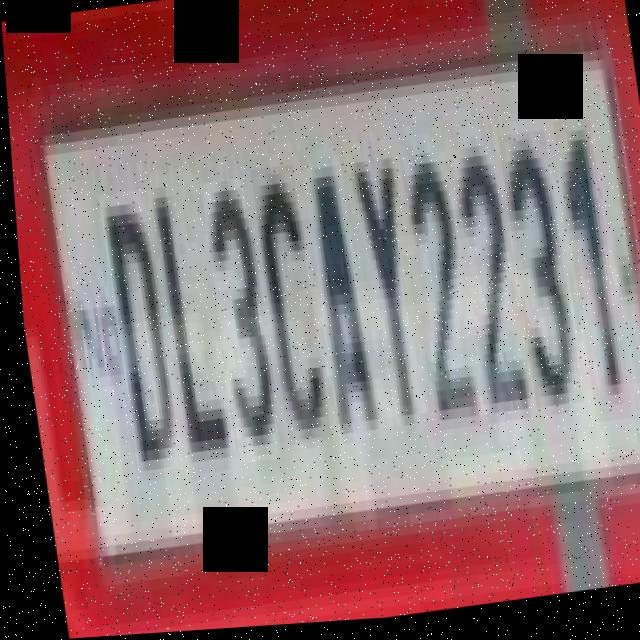1: (551, 124, 626, 433)
3: (495, 136, 577, 416), (196, 180, 275, 467)
A: (298, 163, 375, 448)
C: (247, 167, 324, 449)
D: (95, 190, 176, 475)
L: (143, 173, 226, 471)
Y: (346, 153, 427, 444)
